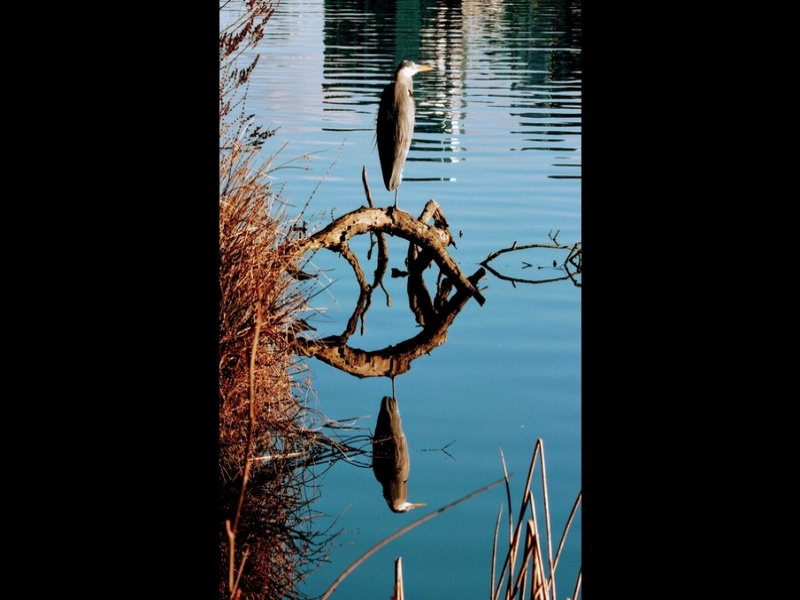heron: (372, 58, 433, 210)
